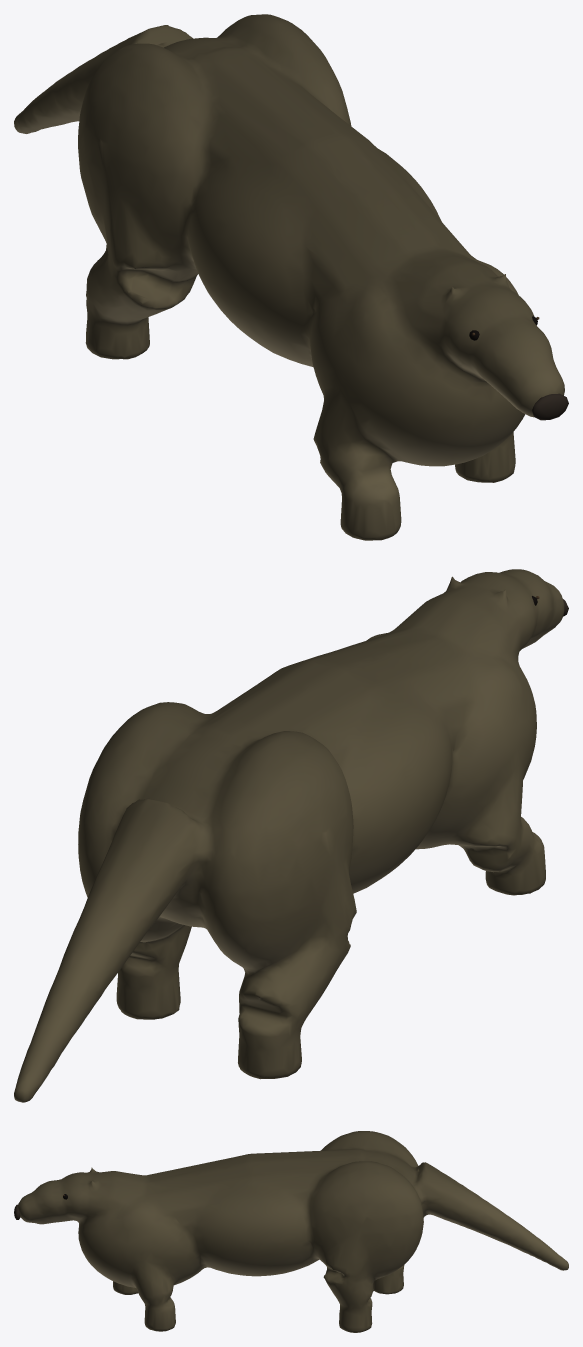
File: BarylambdaFaberi.fbx
3 renders of one model, top to bottom at view 1: azimuth 30°, elevation 25°; view 2: azimuth 150°, elevation 25°; view 3: azimuth 270°, elevation 25°, orthographic. The views are drawn at different scales.
Parts seen in each view (by area): view 1: BarylambdaFaberi; view 2: BarylambdaFaberi; view 3: BarylambdaFaberi.
Boxes of the visible parts, x1,y1,x2,y2 form: BarylambdaFaberi: (14,14,568,540); BarylambdaFaberi: (14,569,568,1102); BarylambdaFaberi: (14,1131,568,1332).
Size of the model in its own units: 0.6185 by 0.7835 by 2.44.
